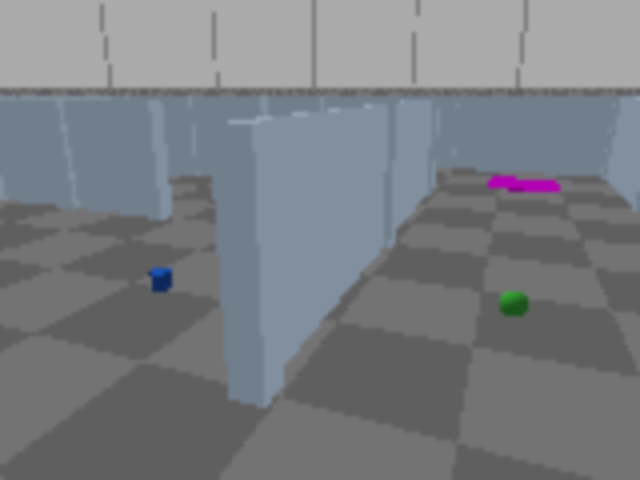goal_zone: (488, 176, 563, 194)
puck: (498, 285, 531, 325), (152, 268, 170, 291)
